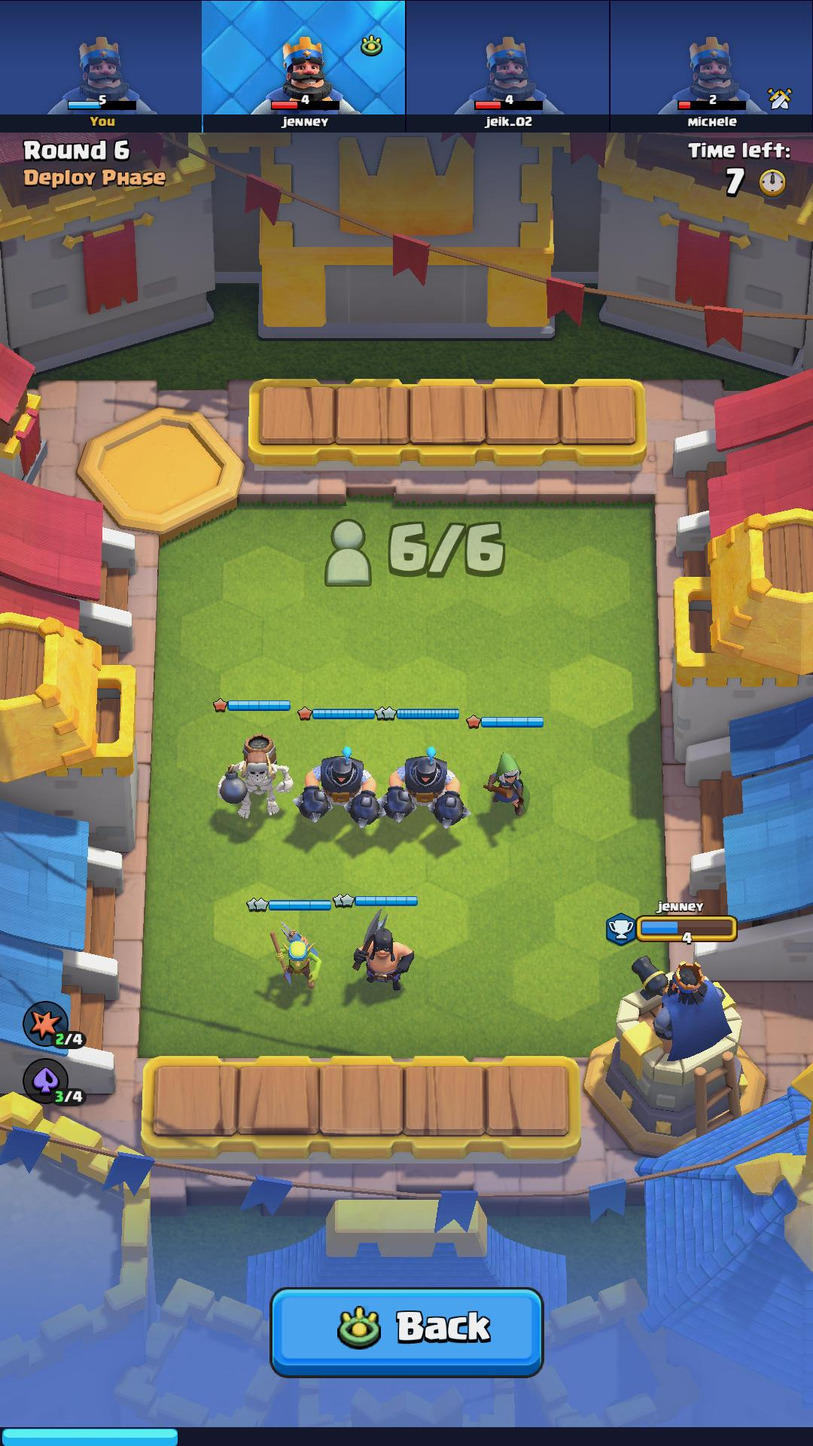bandit: (483, 748, 538, 826)
executioner: (348, 908, 427, 987)
giant: (217, 731, 297, 823)
mega: (294, 741, 386, 840), (383, 746, 472, 846)
spear: (255, 916, 335, 995)
